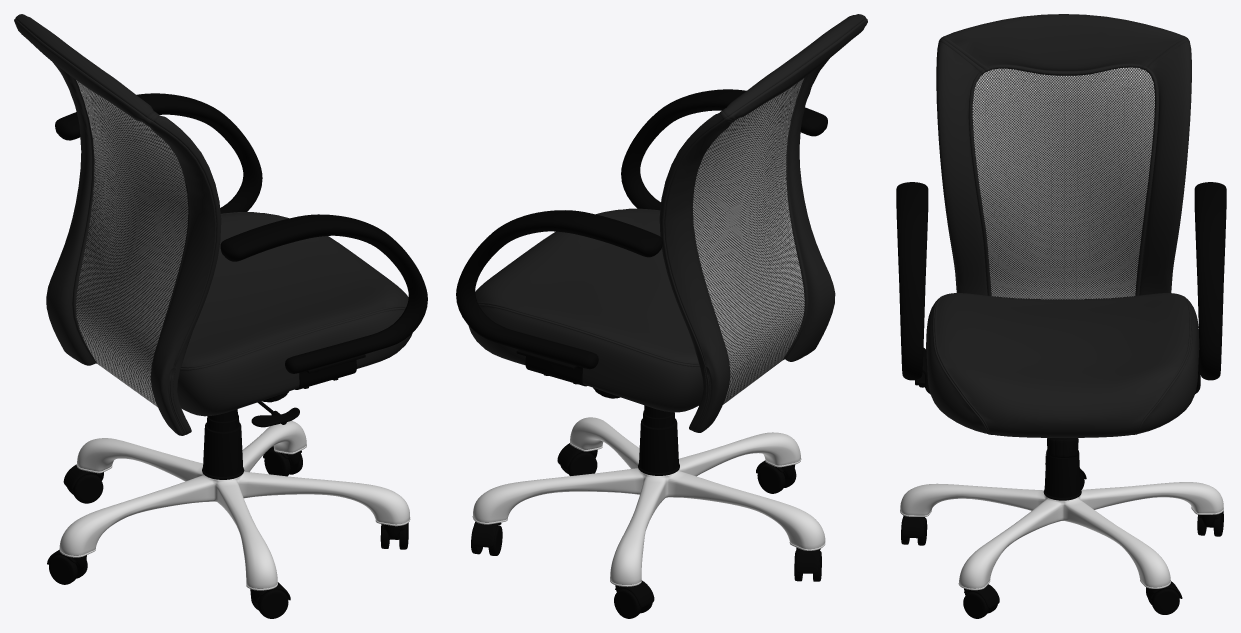
File: office_chair.glb
The picture shows the model from 3 angles, left to right: view 1: azimuth 30°, elevation 25°; view 2: azimuth 150°, elevation 25°; view 3: azimuth 270°, elevation 25°; orthographic projection. The views are drawn at different scales.
Parts seen in each view (by area): view 1: Box02, Box01, Rectangle02, Line04, Line05, Cylinder01, Rectangle11, Cylinder24, Cylinder25, Cylinder02, Cylinder19, Circle01; view 2: Box02, Box01, Rectangle02, Line05, Line04, Cylinder01, Rectangle11, Cylinder24, Cylinder02, Cylinder22, Cylinder26, Cylinder20; view 3: Box02, Box01, Rectangle02, Line04, Line05, Cylinder01, Cylinder03, Cylinder19, Cylinder22, Cylinder23.
Part boxes in pixels (x1,y1,x2,y2): Box02: (14, 14, 221, 435); Box01: (177, 212, 412, 416); Rectangle02: (59, 421, 410, 590); Line04: (220, 214, 427, 373); Line05: (55, 93, 262, 213); Cylinder01: (202, 409, 244, 479); Rectangle11: (295, 354, 365, 389); Cylinder24: (251, 589, 288, 618); Cylinder25: (49, 555, 87, 584); Cylinder02: (67, 474, 103, 503); Cylinder19: (264, 449, 302, 476); Circle01: (251, 407, 299, 427); Box02: (659, 14, 867, 432); Box01: (468, 208, 703, 412); Rectangle02: (472, 417, 825, 586); Line05: (456, 210, 662, 369); Line04: (621, 89, 827, 210); Cylinder01: (638, 405, 679, 475); Rectangle11: (516, 349, 587, 386); Cylinder24: (757, 464, 796, 493); Cylinder02: (614, 589, 652, 618); Cylinder22: (560, 452, 597, 475); Cylinder26: (795, 547, 820, 573); Cylinder20: (471, 521, 501, 547); Box02: (936, 14, 1191, 299); Box01: (926, 293, 1199, 437); Rectangle02: (900, 452, 1223, 590); Line04: (896, 182, 928, 380); Line05: (1194, 182, 1226, 380); Cylinder01: (1043, 449, 1081, 500); Cylinder03: (1047, 438, 1078, 457); Cylinder19: (1148, 588, 1179, 614); Cylinder22: (963, 592, 997, 618); Cylinder23: (901, 515, 924, 538).
Size of the model in its own units: 65.24 by 102 by 63.68.
Materials: 5 (1 with a texture image).
